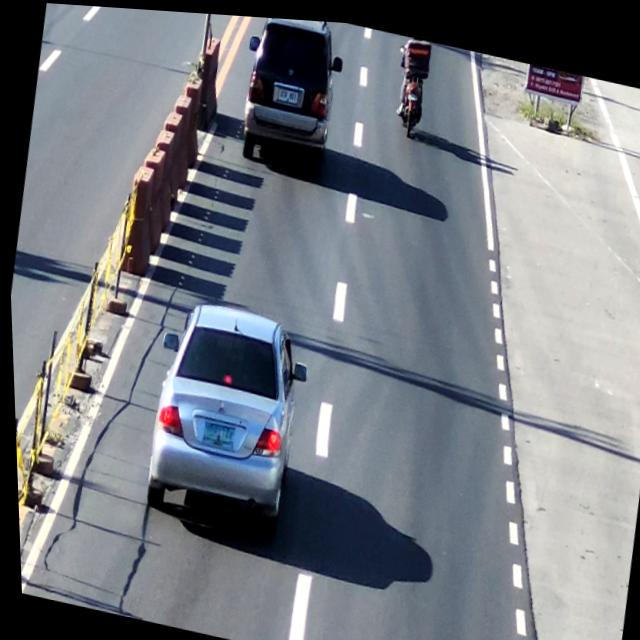Car: (135, 287, 313, 528), (235, 12, 344, 171)
License-Plate: (196, 417, 235, 451), (275, 81, 300, 101)
Motorcycle: (387, 29, 439, 141)
